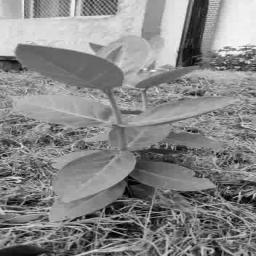CALOTROPIS: (25, 38, 211, 202)
